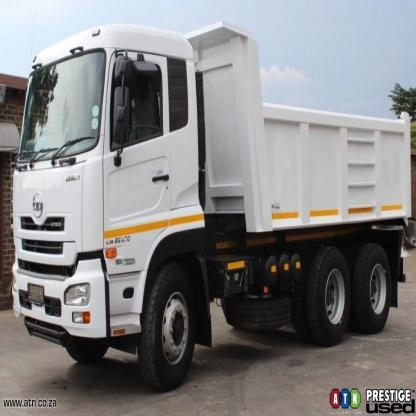dump_truck: (11, 22, 414, 393)
